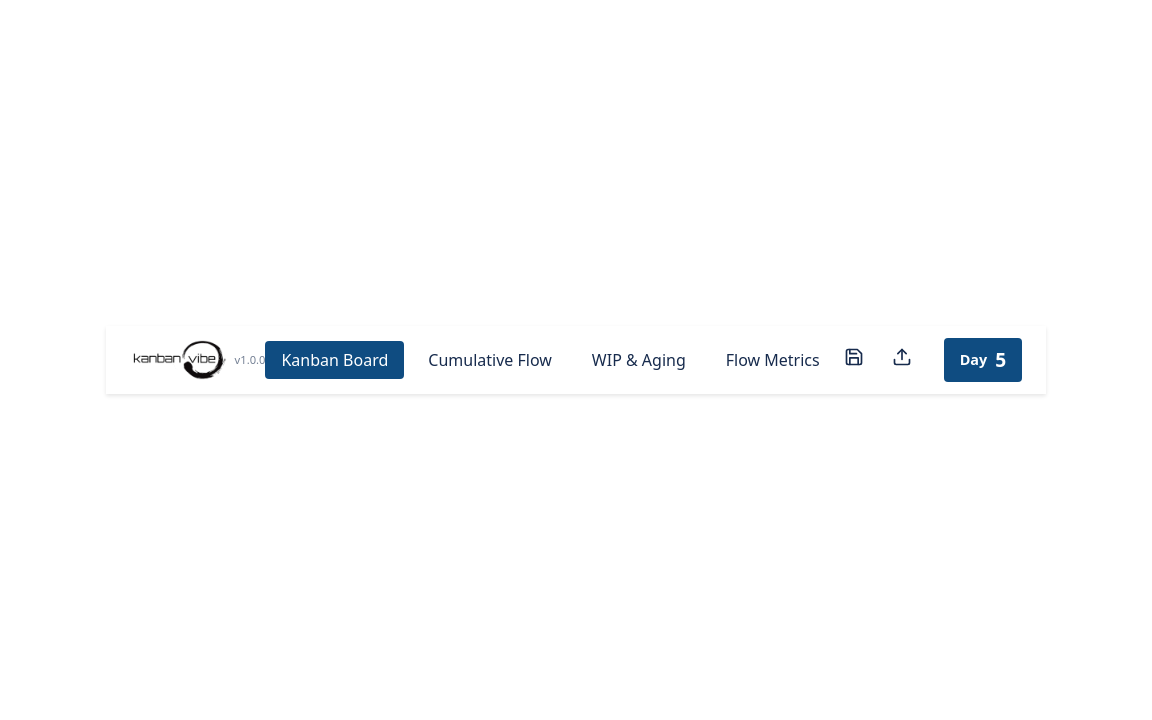
Test: NavigationBar Component › Reset Board › shows confirmation dialog when Reset Board is clicked
Click the button named "Save options" at [854, 360], box [836,340,872,380]
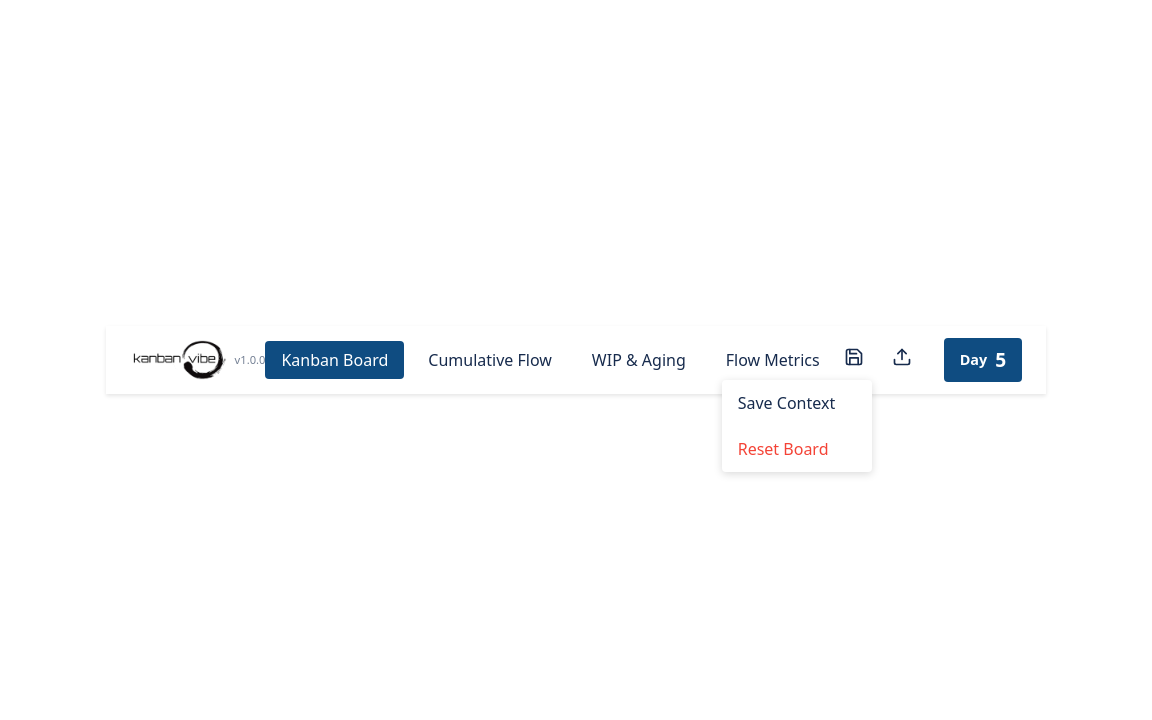
Click the button "Reset Board" at [797, 450], box [722,426,872,472]
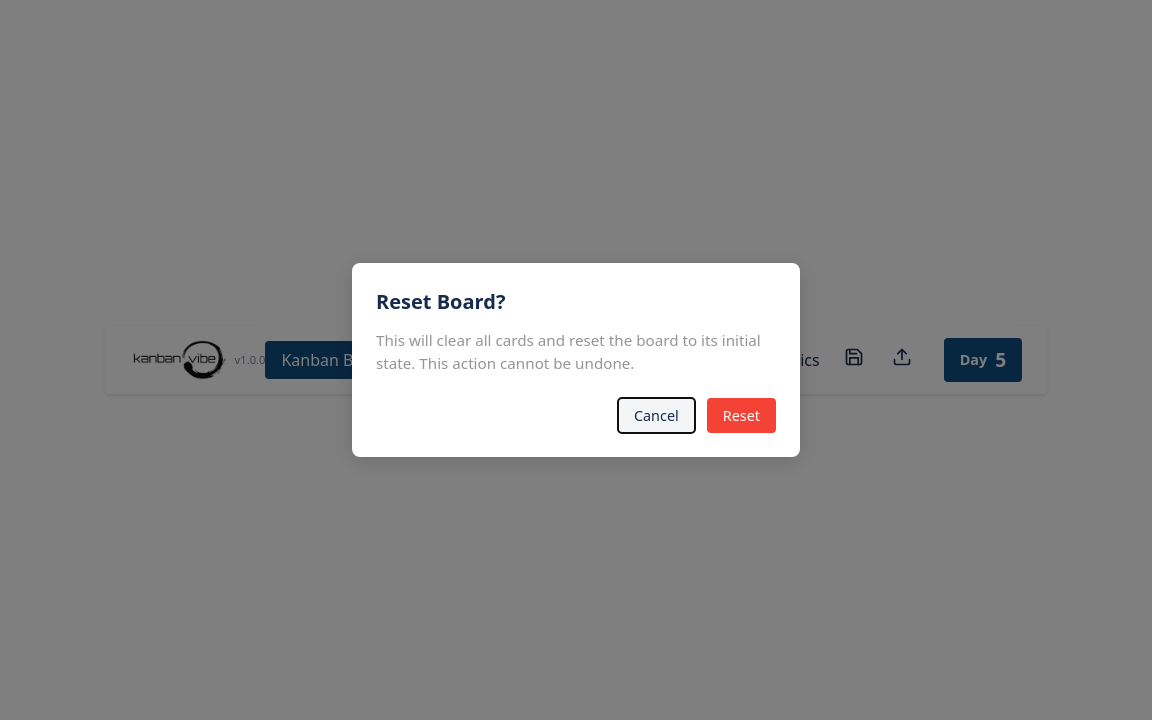
Check: the dialog is shown, box [352,263,800,457]
Check: the heading "Reset Board?" is shown, box [376,288,506,315]
